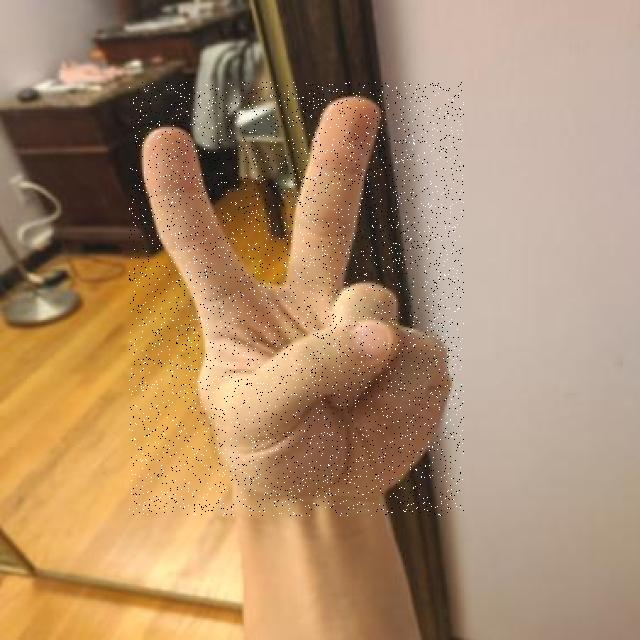V: (129, 82, 464, 516)
